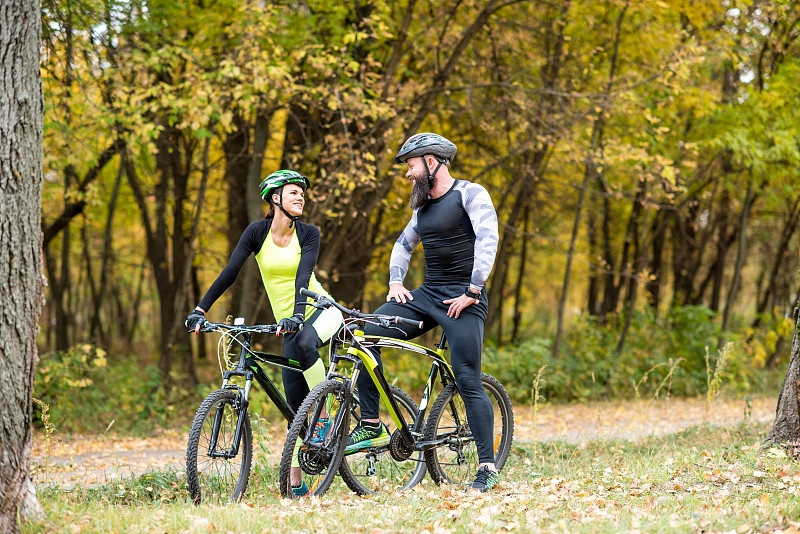non-vehicle: (276, 310, 513, 502), (173, 309, 356, 509)
